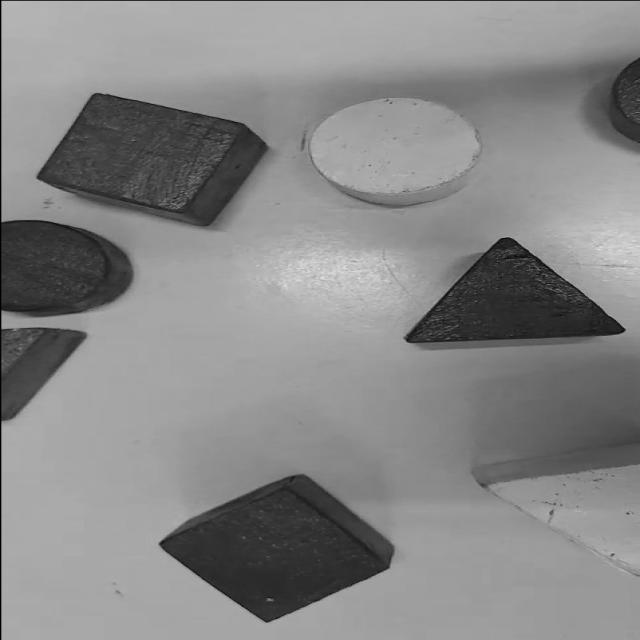bcircle: (2, 221, 133, 315)
bcube: (160, 472, 398, 619)
btriangle: (405, 238, 624, 344)
rcircle: (608, 53, 638, 144)
rcube: (36, 93, 270, 226)
rtriangle: (1, 328, 88, 423)
ycircle: (307, 97, 484, 205)
ytriangle: (474, 437, 636, 578)
